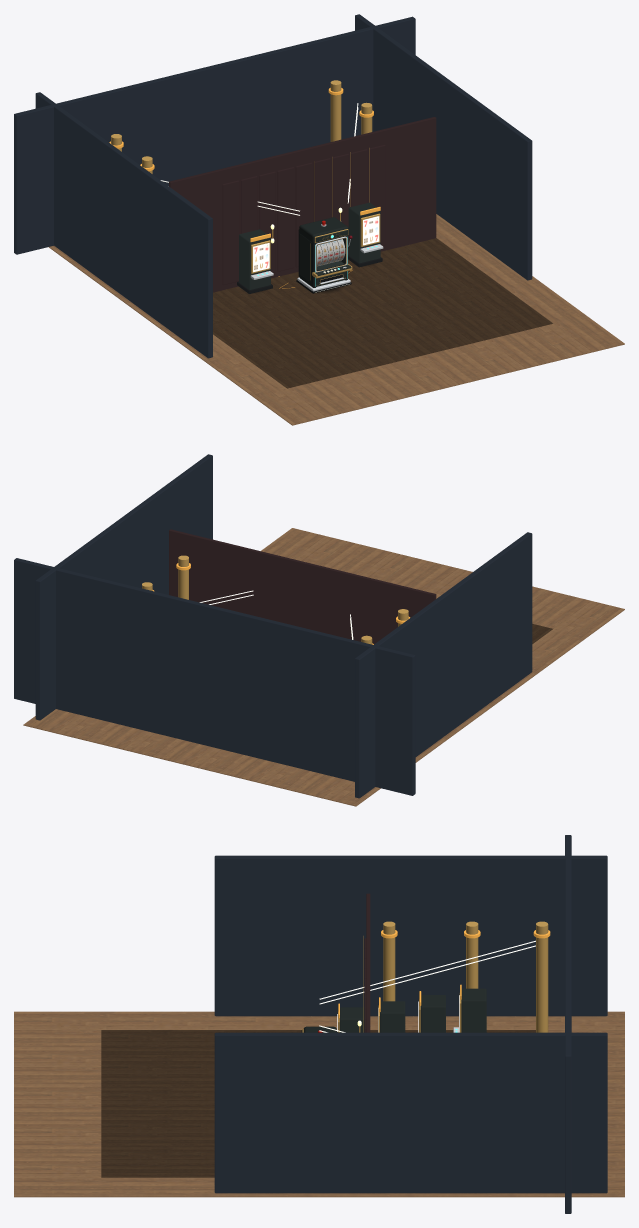
File: garden_atrium.glb
3 renders of one model, top to bottom at view 1: azimuth 30°, elevation 25°; view 2: azimuth 150°, elevation 25°; view 3: azimuth 270°, elevation 25°, orthographic. The views are drawn at different scales.
Parts seen in each view (by area): view 1: Casino_Casino Casino wall, Lounge_Lounge floor, Lounge_Velvet, Casino_Casino Casino floor, Casino_Casino Cabinet, Casino_Casino Trim, Casino_Casino Casino reel display, Rounded crown; view 2: Casino_Casino Casino wall, Casino_Casino Casino floor, Lounge_Velvet, Casino_Casino Trim; view 3: Casino_Casino Casino wall, Casino_Casino Casino floor, Lounge_Lounge floor, Casino_Casino Cabinet, Casino_Casino Trim, Lounge_Velvet, Casino_Casino Warm light.
Boxes of the visible parts, left/top/right/bottom form: Casino_Casino Casino wall: left=14, top=14, right=532, bottom=358; Lounge_Lounge floor: left=213, top=238, right=552, bottom=388; Lounge_Velvet: left=169, top=117, right=436, bottom=292; Casino_Casino Casino floor: left=48, top=214, right=624, bottom=425; Casino_Casino Cabinet: left=239, top=202, right=380, bottom=289; Casino_Casino Trim: left=111, top=80, right=380, bottom=273; Casino_Casino Casino reel display: left=253, top=216, right=379, bottom=272; Rounded crown: left=299, top=217, right=348, bottom=243; Casino_Casino Casino wall: left=14, top=454, right=532, bottom=798; Casino_Casino Casino floor: left=23, top=528, right=624, bottom=806; Lounge_Velvet: left=169, top=529, right=436, bottom=644; Casino_Casino Trim: left=142, top=555, right=408, bottom=644; Casino_Casino Casino wall: left=214, top=835, right=607, bottom=1213; Casino_Casino Casino floor: left=14, top=1011, right=624, bottom=1197; Lounge_Lounge floor: left=101, top=1030, right=535, bottom=1177; Casino_Casino Cabinet: left=339, top=988, right=486, bottom=1032; Casino_Casino Trim: left=338, top=921, right=548, bottom=1032; Lounge_Velvet: left=364, top=893, right=370, bottom=1032; Casino_Casino Warm light: left=319, top=940, right=535, bottom=1032.
Bounding box in the file's own units: 12 × 4.05 × 14.
Materials: 27 (6 with a texture image).
